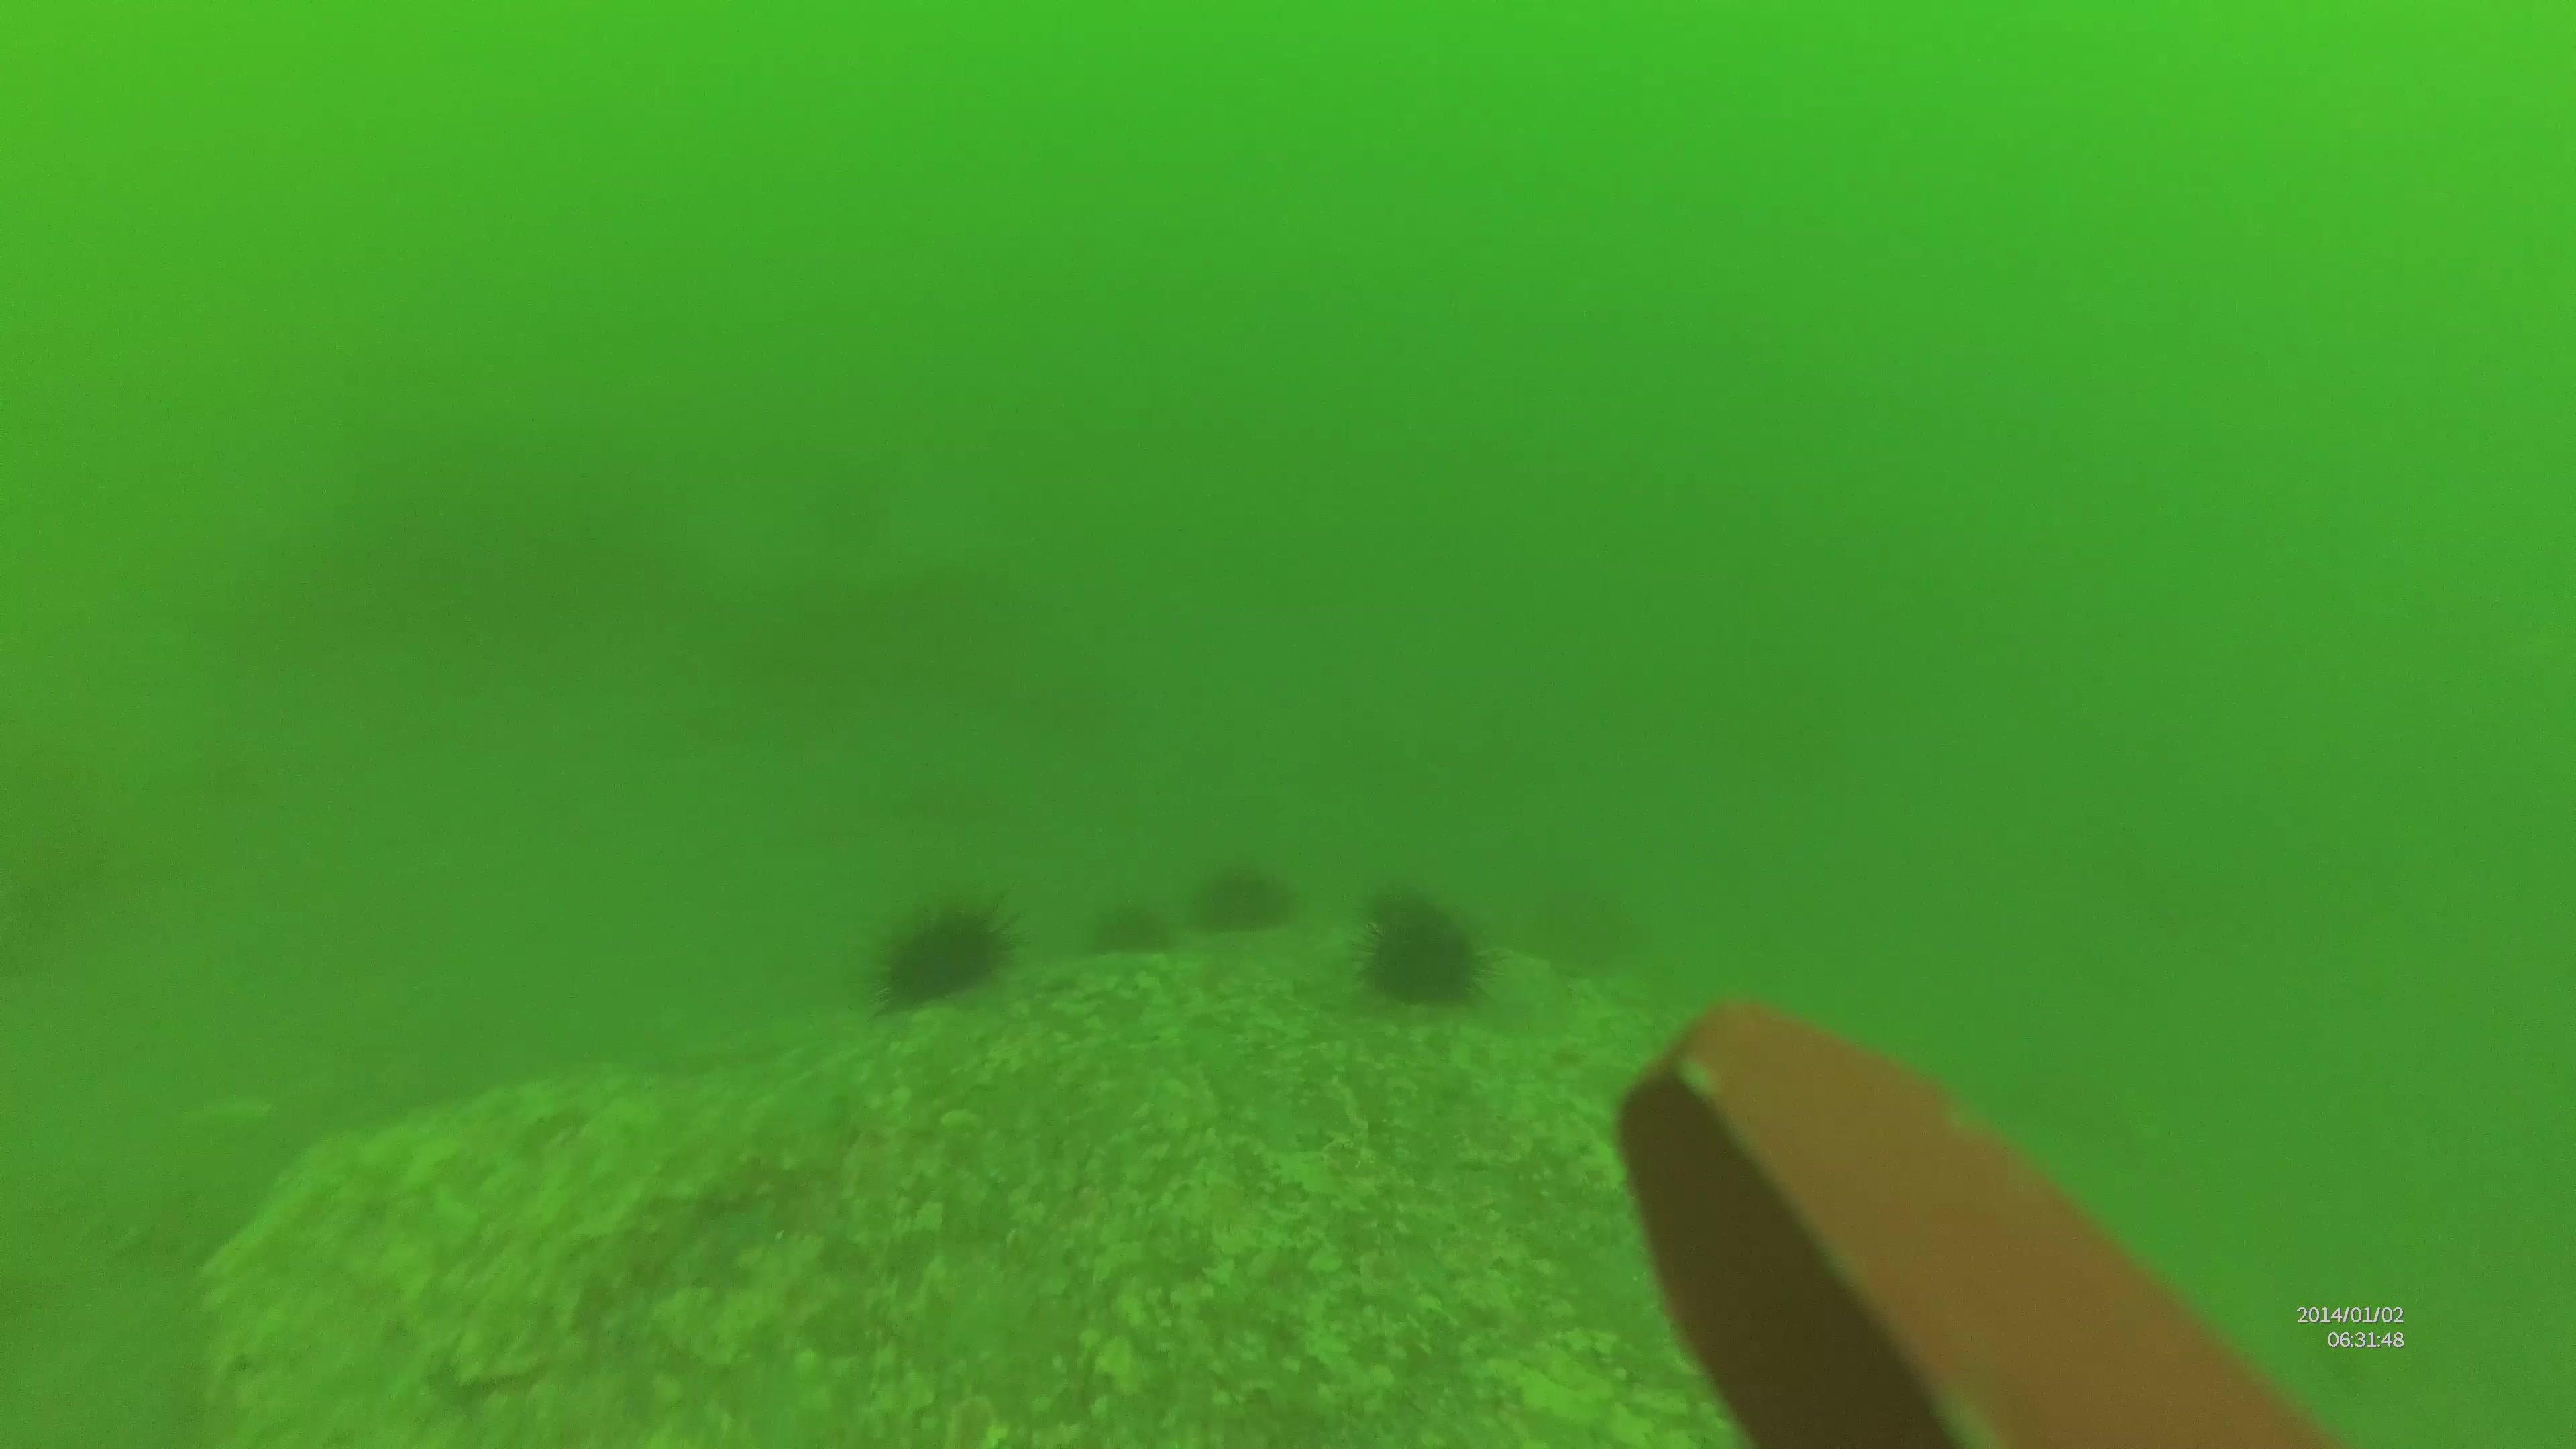echinus: (856, 902, 1039, 1010), (1348, 879, 1491, 1005), (1177, 872, 1295, 941), (1081, 895, 1161, 962)
